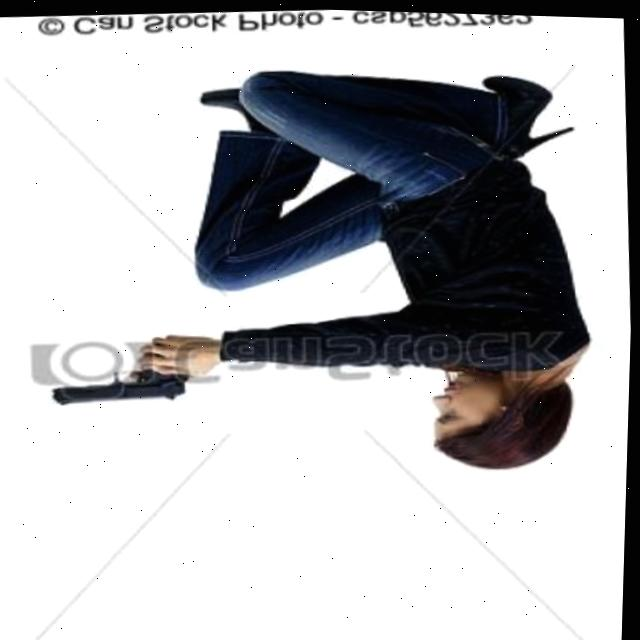pistol: (42, 328, 207, 418)
